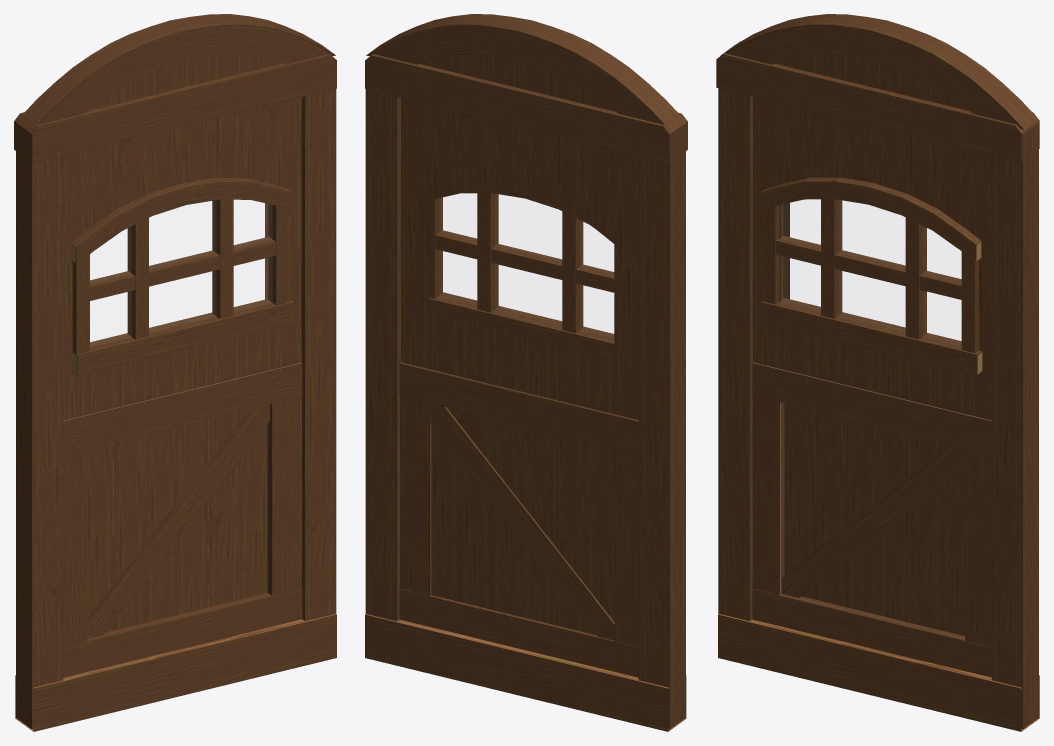
The model's file is Door_1_Round.gltf.
3 renders of one model, left to right at view 1: azimuth 30°, elevation 25°; view 2: azimuth 150°, elevation 25°; view 3: azimuth 330°, elevation 25°, orthographic.
Parts seen in each view (by area): view 1: Door_1_Round; view 2: Door_1_Round; view 3: Door_1_Round.
Part boxes in pixels (<box>): Door_1_Round: <box>14,14,336,731</box>; Door_1_Round: <box>365,14,687,731</box>; Door_1_Round: <box>716,14,1039,731</box>.
Bounding box in the file's own units: 1.12 × 2.32 × 0.1207.
2 materials, 1 textured.
